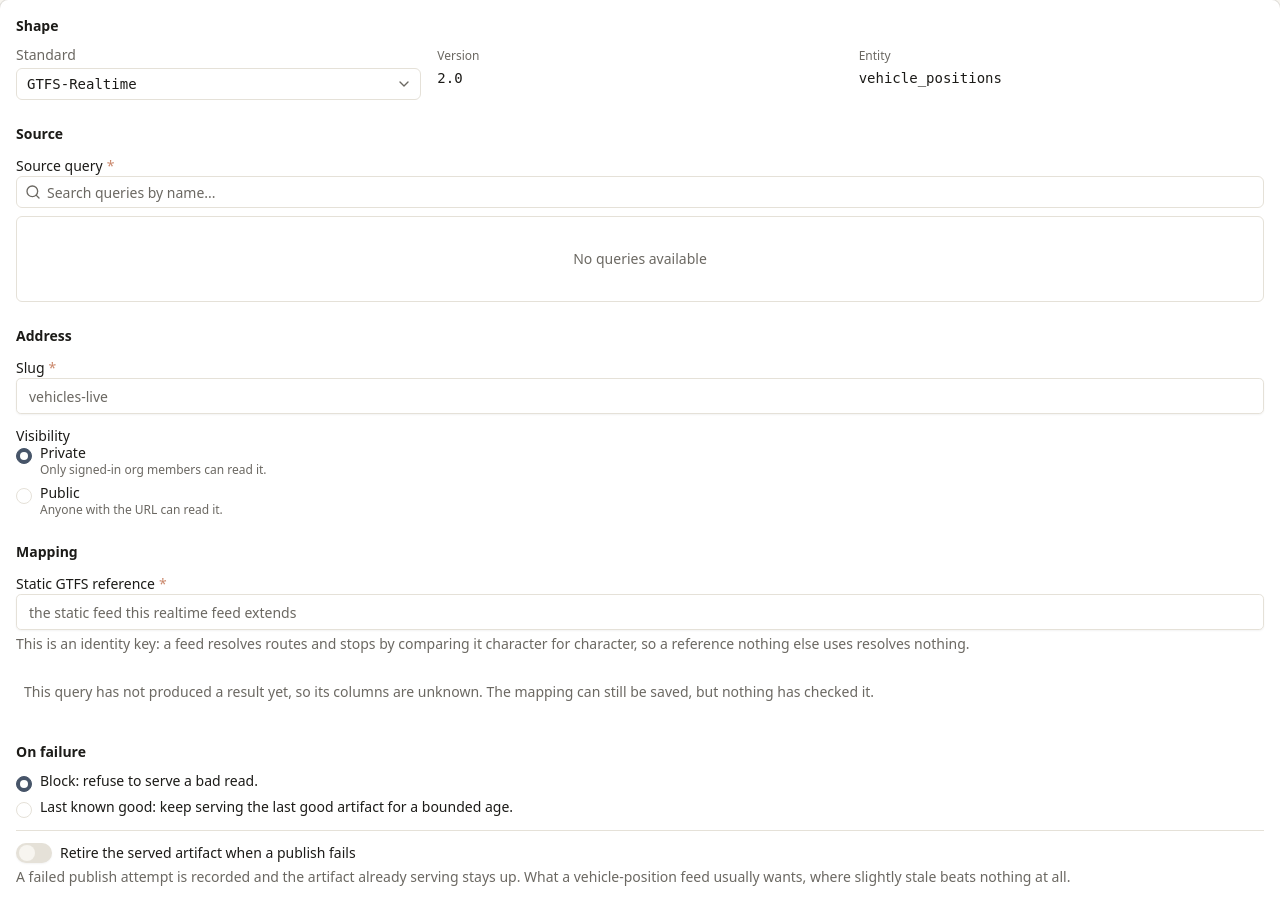
Test case: required field marking › requires the maximum age only once last known good is chosen
Expected: the field labelled "maximum age" is not shown
Click the 4th radio button named "last known good": click(24, 810) [16,802,32,818]
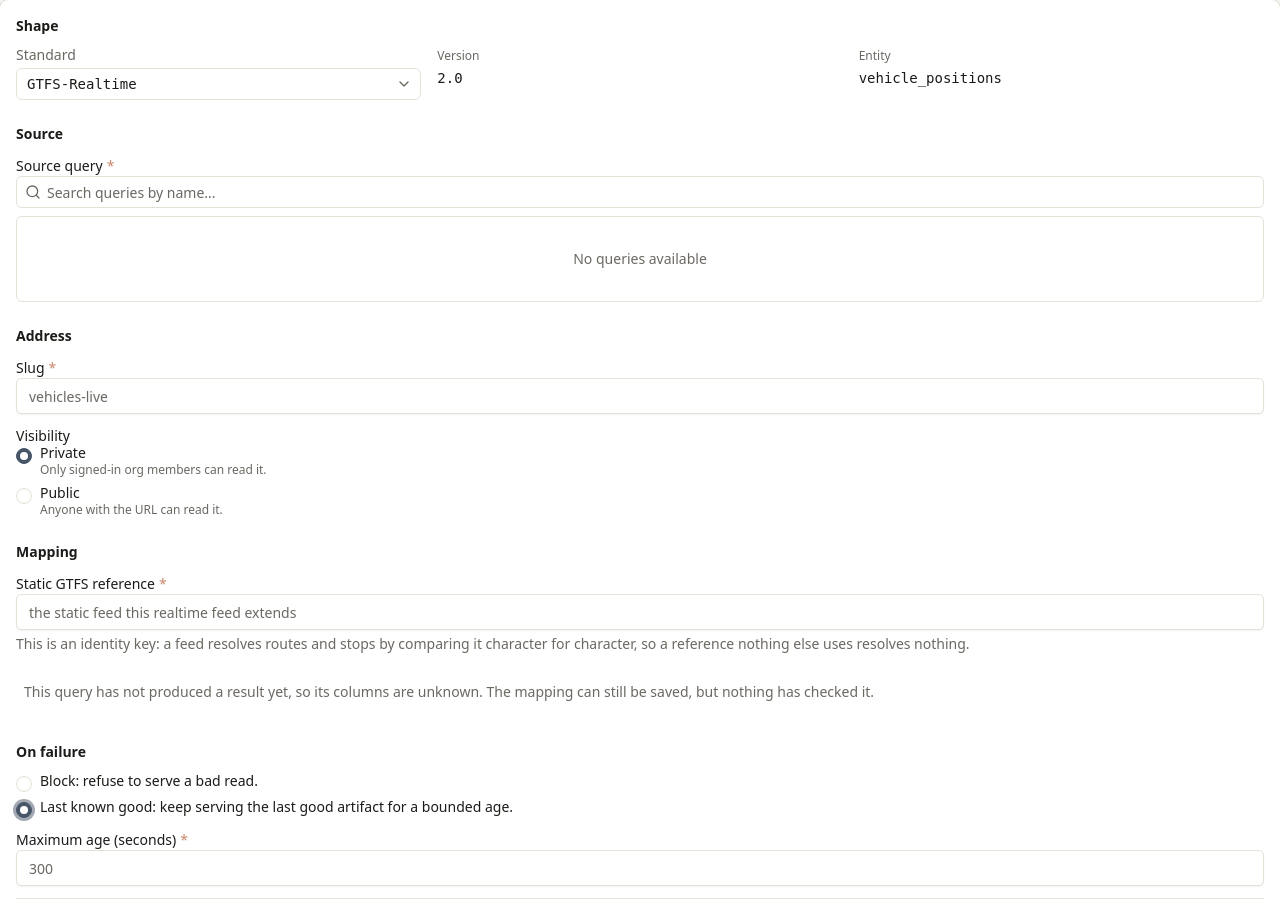
Expected: the text "*" next to "Maximum age (seconds)" is shown, [180,830,188,849]
